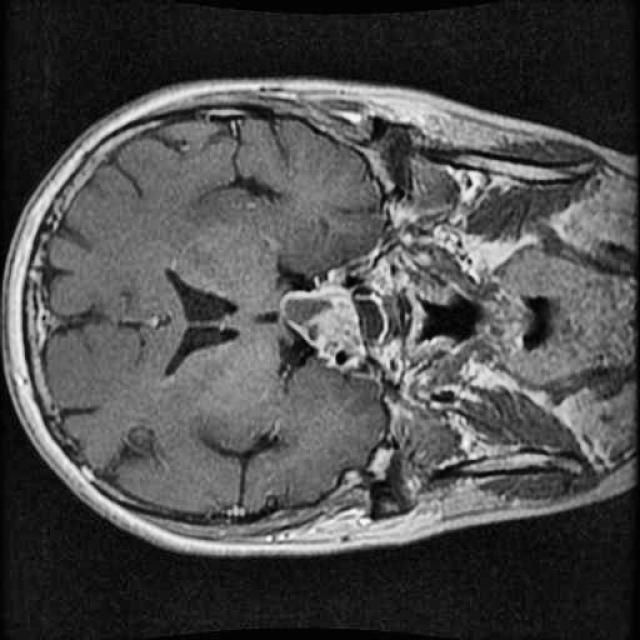Tumor: (275, 280, 386, 381)
